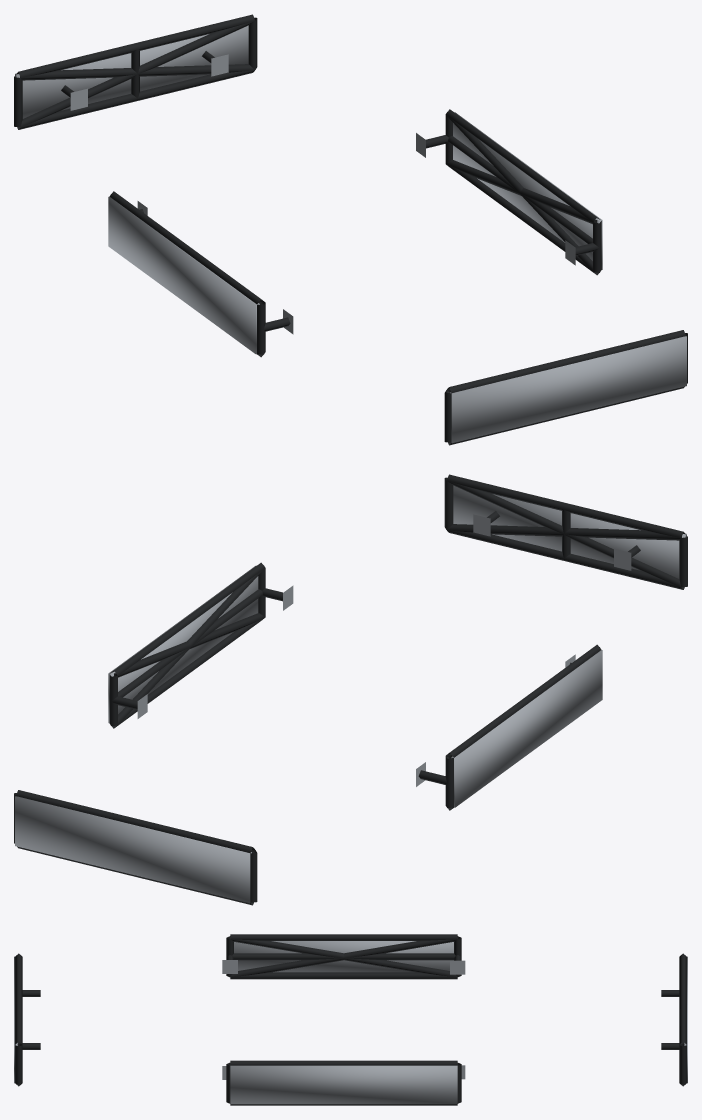
File: hozuki_catana_protecao.glb
3 renders of one model, top to bottom at view 1: azimuth 30°, elevation 25°; view 2: azimuth 150°, elevation 25°; view 3: azimuth 270°, elevation 25°, orthographic. The views are drawn at different scales.
Visible parts, largest first — view 1: Protection_front_Level3_Details, Protection_left_Level3_Details, Protection_rear_Level1_Details, Protection_rear_Level3_Details, Protection_right_Level1_Details, Protection_rear_Level2_Details, Protection_right_Level2_Details, Protection_right_Level3_Details, Protection_front_Level1_Details, Protection_left_Level1_Details; view 2: Protection_rear_Level3_Details, Protection_left_Level3_Details, Protection_front_Level1_Details, Protection_front_Level3_Details, Protection_right_Level1_Details, Protection_front_Level2_Details, Protection_right_Level2_Details, Protection_right_Level3_Details, Protection_rear_Level1_Details, Protection_left_Level1_Details; view 3: Protection_right_Level3_Details, Protection_left_Level2_Details, Protection_left_Level1_Details, Protection_left_Level3_Details, Protection_right_Level1_Details, Protection_rear_Level1_Details, Protection_front_Level1_Details.
Part boxes in pixels (<box>): Protection_front_Level3_Details: <box>450,336,686,443</box>; Protection_left_Level3_Details: <box>108,196,259,354</box>; Protection_rear_Level1_Details: <box>14,14,257,129</box>; Protection_rear_Level3_Details: <box>15,25,248,118</box>; Protection_right_Level1_Details: <box>416,109,601,275</box>; Protection_rear_Level2_Details: <box>16,21,254,128</box>; Protection_right_Level2_Details: <box>446,115,600,274</box>; Protection_right_Level3_Details: <box>453,112,602,269</box>; Protection_front_Level1_Details: <box>444,330,687,445</box>; Protection_left_Level1_Details: <box>109,191,293,357</box>; Protection_rear_Level3_Details: <box>15,796,251,903</box>; Protection_left_Level3_Details: <box>451,650,602,807</box>; Protection_front_Level1_Details: <box>444,474,687,589</box>; Protection_front_Level3_Details: <box>453,485,686,578</box>; Protection_right_Level1_Details: <box>109,562,293,728</box>; Protection_front_Level2_Details: <box>447,481,685,588</box>; Protection_right_Level2_Details: <box>110,568,265,728</box>; Protection_right_Level3_Details: <box>108,565,258,723</box>; Protection_rear_Level1_Details: <box>14,790,257,905</box>; Protection_left_Level1_Details: <box>416,644,601,810</box>; Protection_right_Level3_Details: <box>230,1065,457,1104</box>; Protection_left_Level2_Details: <box>230,936,457,977</box>; Protection_left_Level1_Details: <box>222,934,465,979</box>; Protection_left_Level3_Details: <box>234,941,453,972</box>; Protection_right_Level1_Details: <box>222,1060,465,1105</box>; Protection_rear_Level1_Details: <box>661,953,686,1086</box>; Protection_front_Level1_Details: <box>15,953,40,1086</box>.
Bounding box in the file's own units: 2.2 × 0.354 × 4.8.
1 material, 1 textured.
